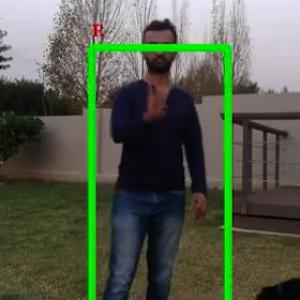takeoff-hand: (142, 74, 172, 122)
